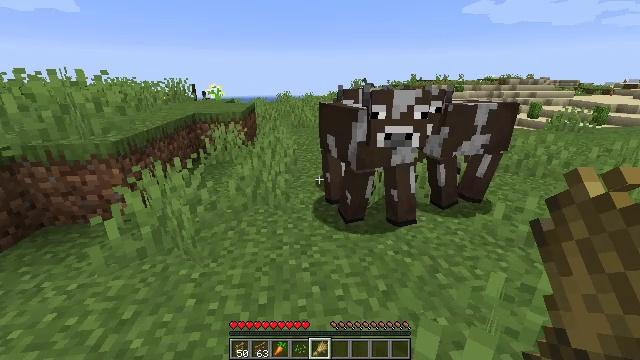cow: (319, 90, 427, 225), (428, 91, 520, 206)
